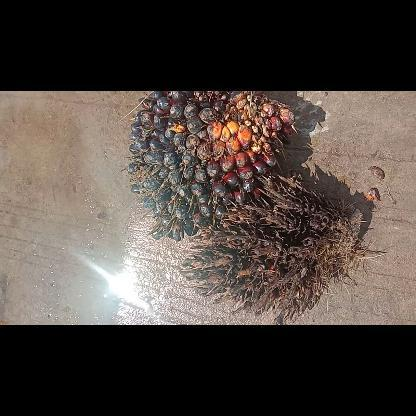Janjang kosong: (179, 174, 367, 324)
TBS mentah: (127, 91, 297, 245)
